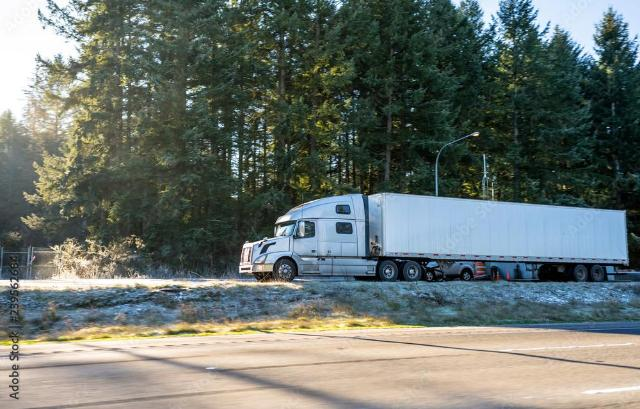truck: (231, 192, 640, 293)
